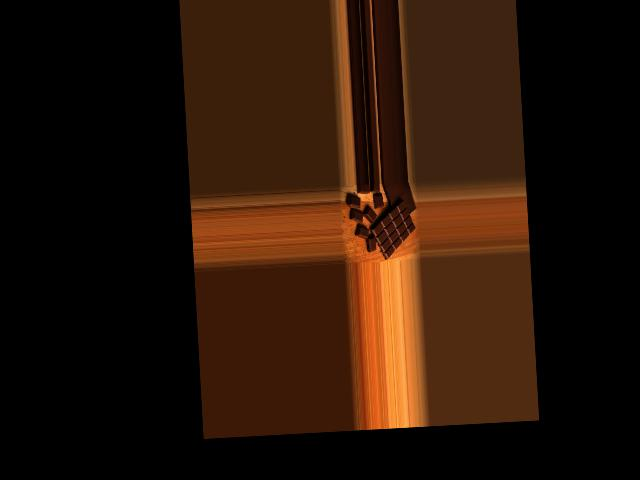chocolate: (366, 198, 417, 258)
